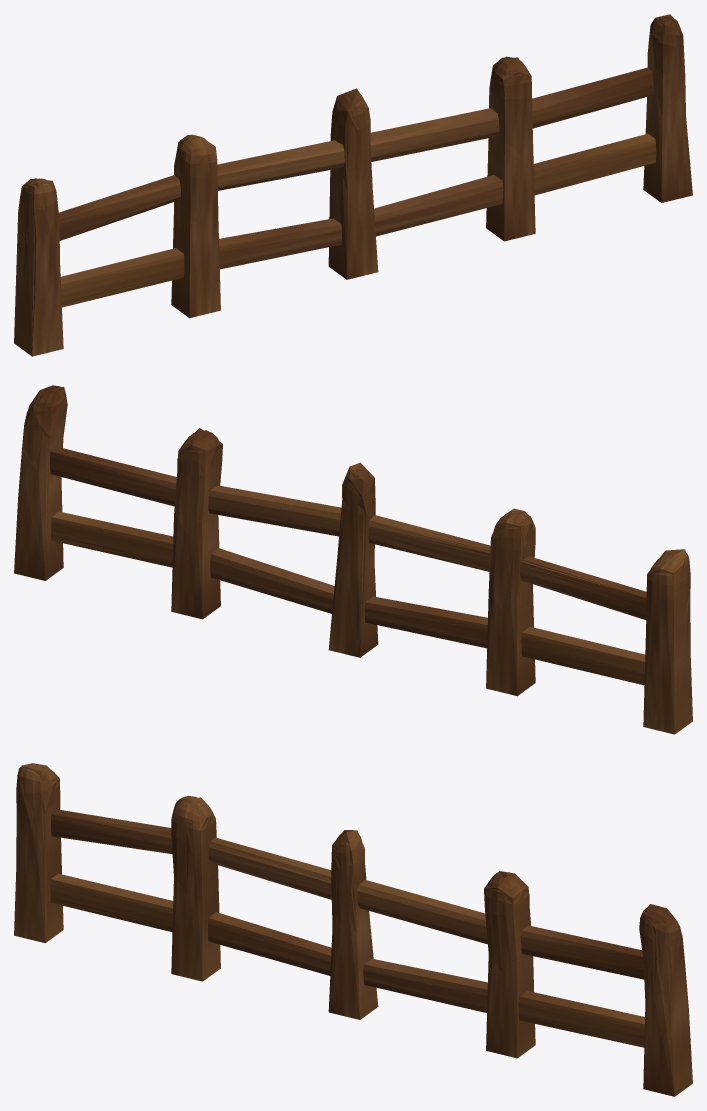
The model's file is Fence_5TilesLength.fbx.
3 renders of one model, top to bottom at view 1: azimuth 30°, elevation 25°; view 2: azimuth 150°, elevation 25°; view 3: azimuth 330°, elevation 25°, orthographic.
Visible parts, largest first — view 1: Fence#2, Fence#3; view 2: Fence#2, Fence#3; view 3: Fence#2, Fence#3.
Part boxes in pixels (left/top/right/bottom): Fence#2: left=14, top=17, right=692, bottom=356; Fence#3: left=18, top=14, right=685, bottom=354; Fence#2: left=14, top=385, right=692, bottom=734; Fence#3: left=14, top=387, right=689, bottom=679; Fence#2: left=14, top=764, right=692, bottom=1096; Fence#3: left=14, top=763, right=688, bottom=1041.
Size of the model in its own units: 8.42 by 2.2 by 0.476.
Materials: 1 (1 with a texture image).
